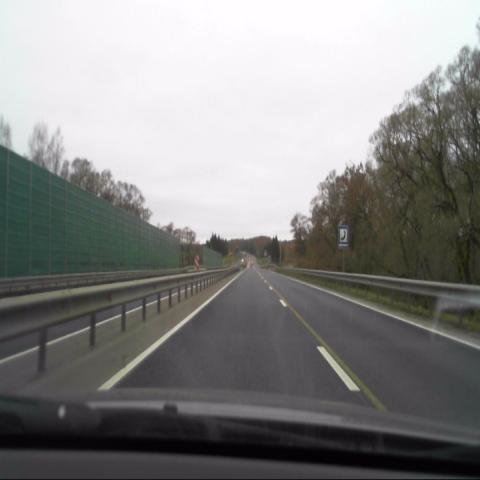7_6: (338, 224, 348, 250)
